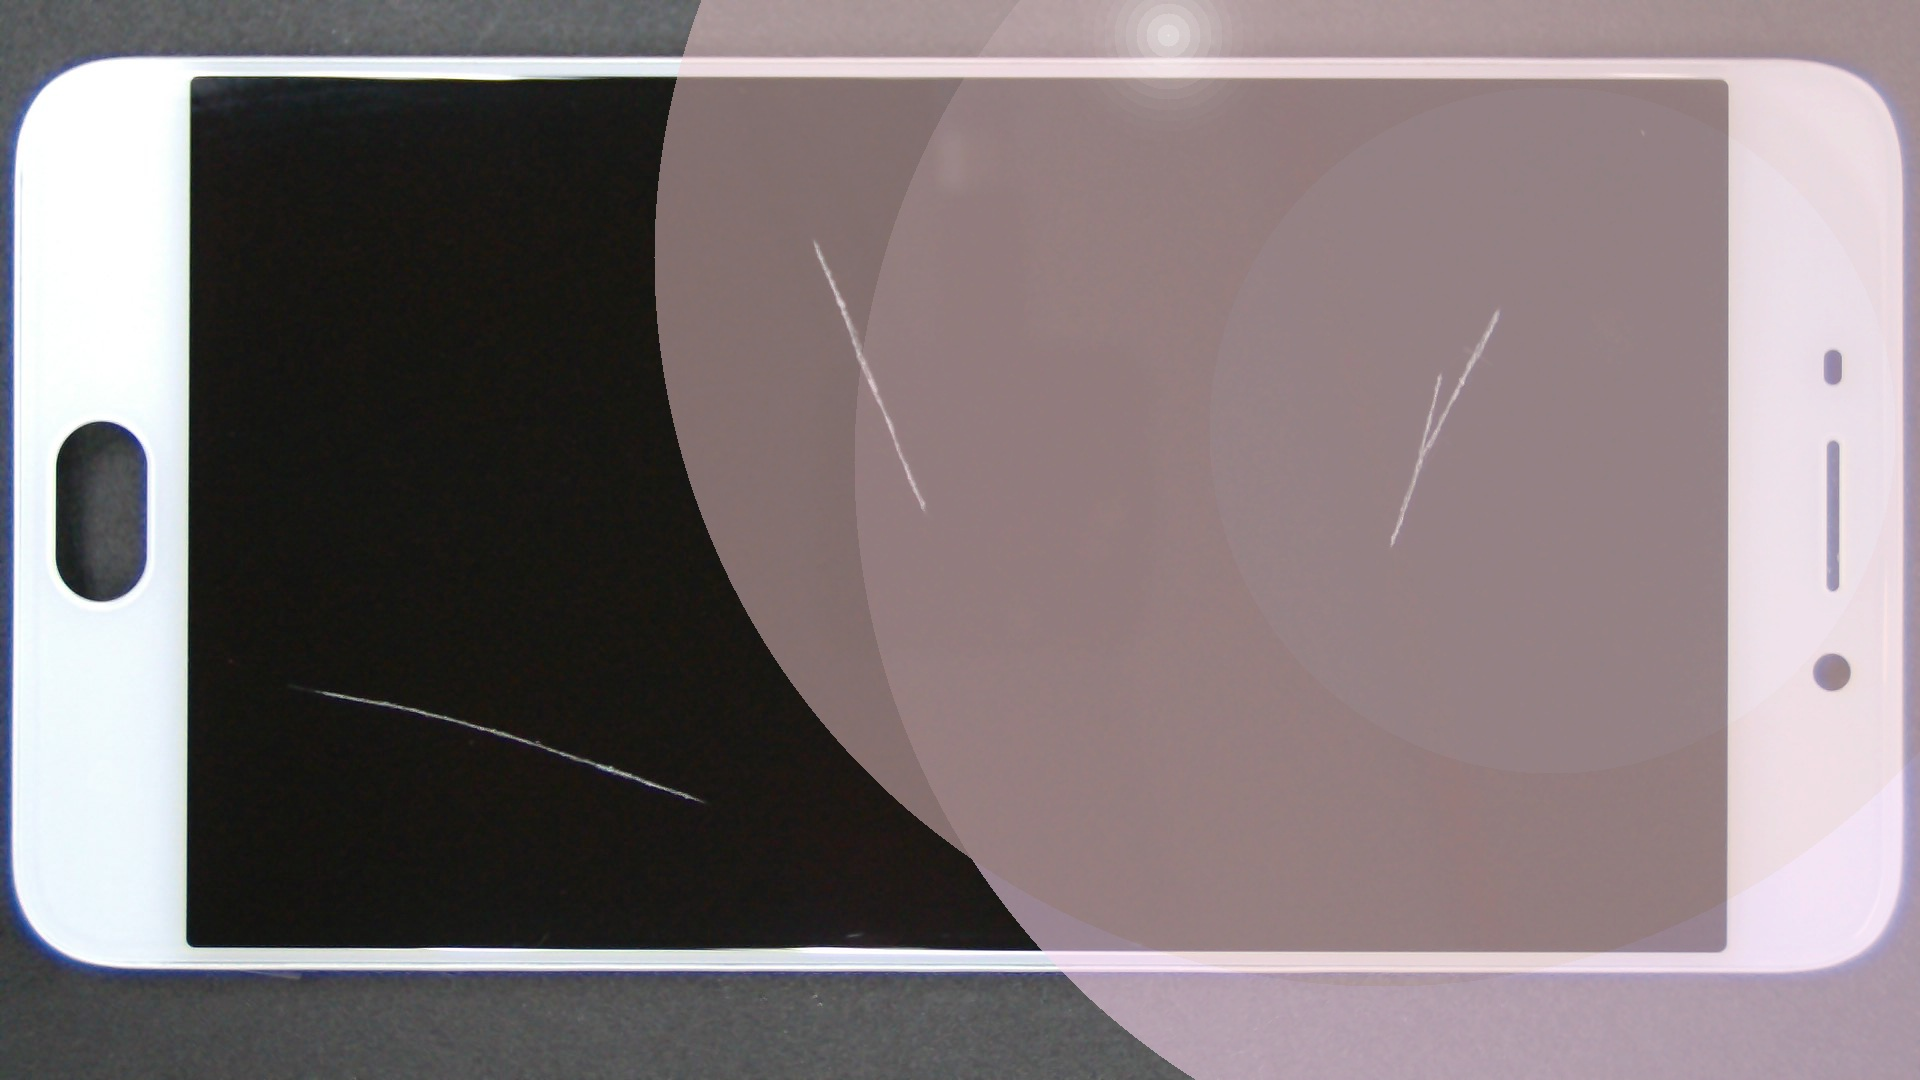oil: (750, 153, 1920, 463), (144, 342, 434, 1026), (407, 119, 1221, 359)
